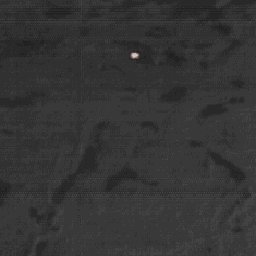Target: (129, 51, 140, 59)
